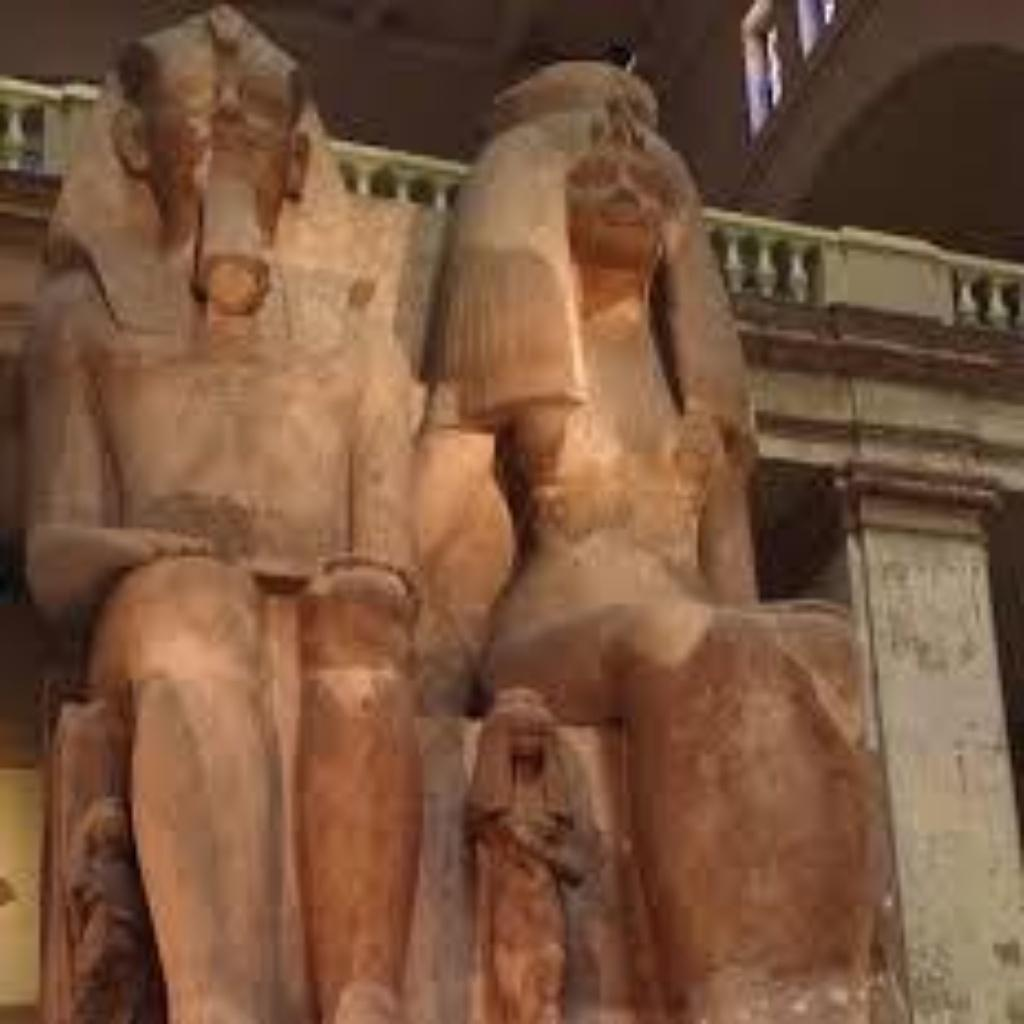Amenhotep III and Tiye: (24, 0, 890, 1019)
